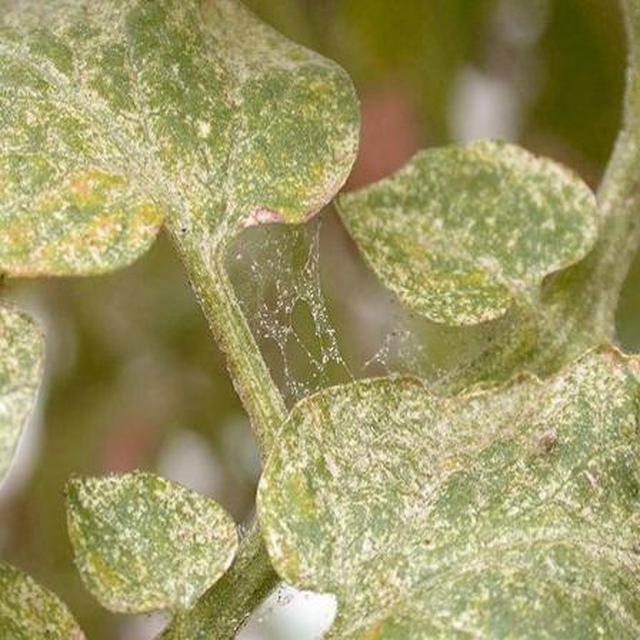Spider Mites Leaf: (218, 198, 640, 640)
